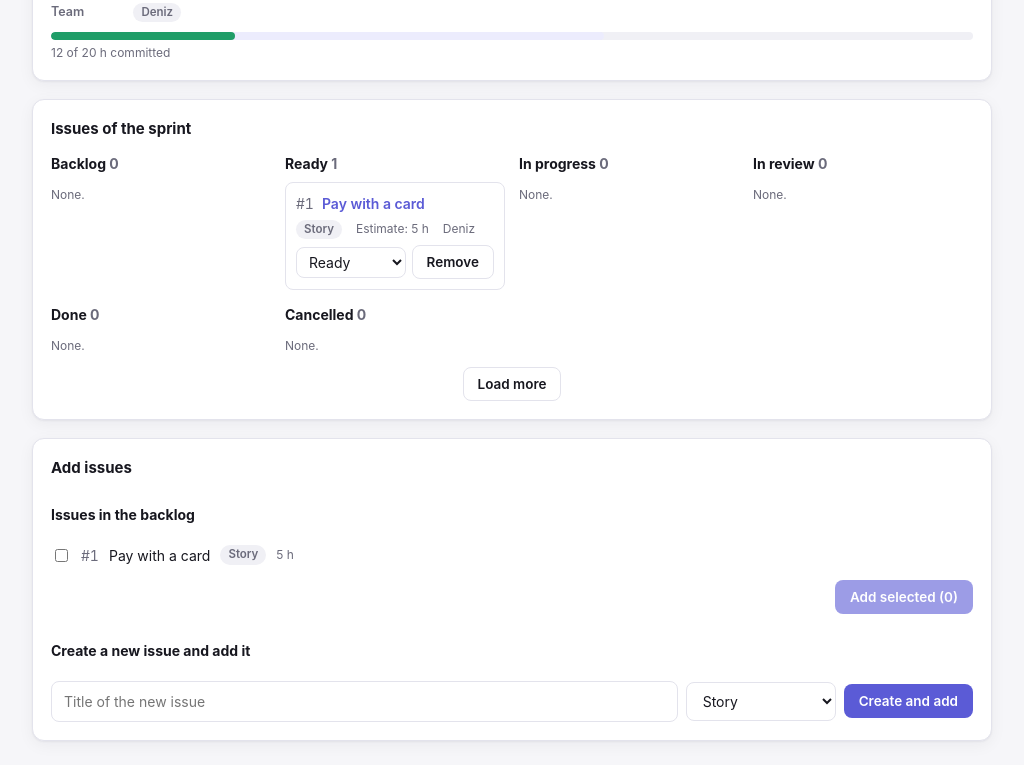
Test case: the sprint page: the issues by status › loads more of the sprint's issues with the cursor
(page scrolled)
Click the button "Load more" at (512, 384), box [462,367,562,401]
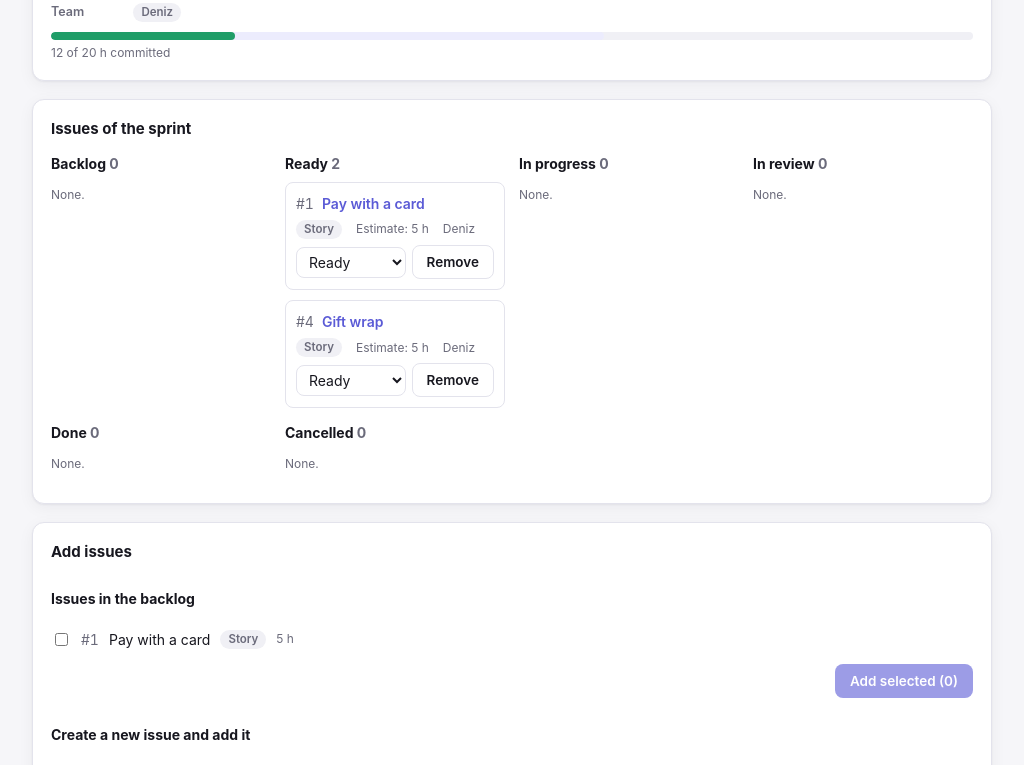
Check: the link "Gift wrap" is shown, box [322,311,384,332]
